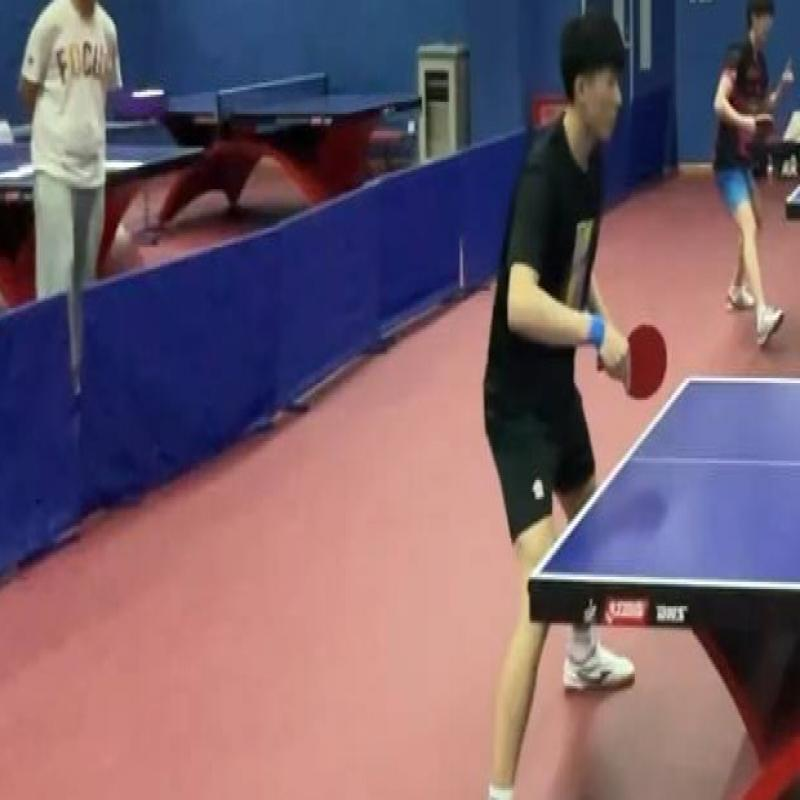bats: (613, 312, 675, 410)
